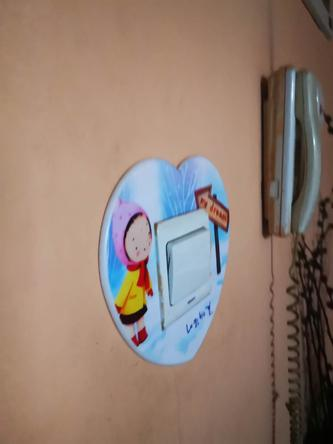switch: (166, 237, 215, 298)
